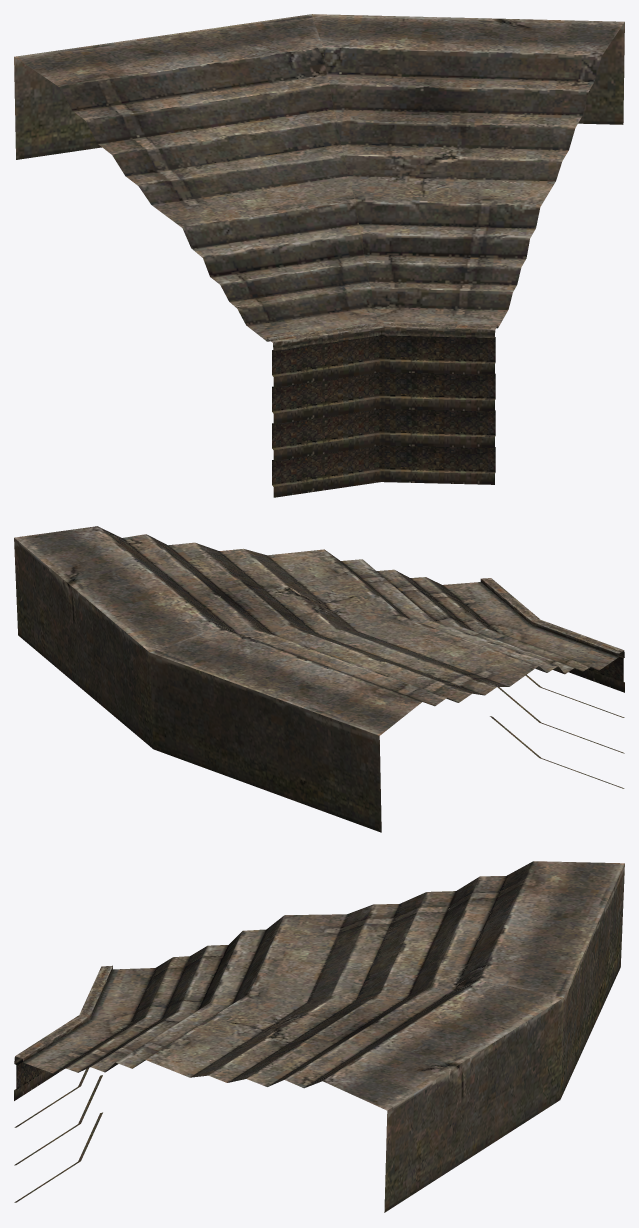
File: miniboss_05-01.fbx
The picture shows the model from 3 angles, top to bottom: view 1: azimuth 30°, elevation 25°; view 2: azimuth 150°, elevation 25°; view 3: azimuth 270°, elevation 25°; orthographic projection. The views are drawn at different scales.
Parts seen in each view (by area): view 1: miniboss_05_01; view 2: miniboss_05_01; view 3: miniboss_05_01.
Part boxes in pixels (left/top/right/bottom): miniboss_05_01: left=14, top=14, right=624, bottom=497; miniboss_05_01: left=14, top=526, right=624, bottom=832; miniboss_05_01: left=14, top=861, right=624, bottom=1212.
Bounding box in the file's own units: 92.21 × 45.63 × 96.45.
